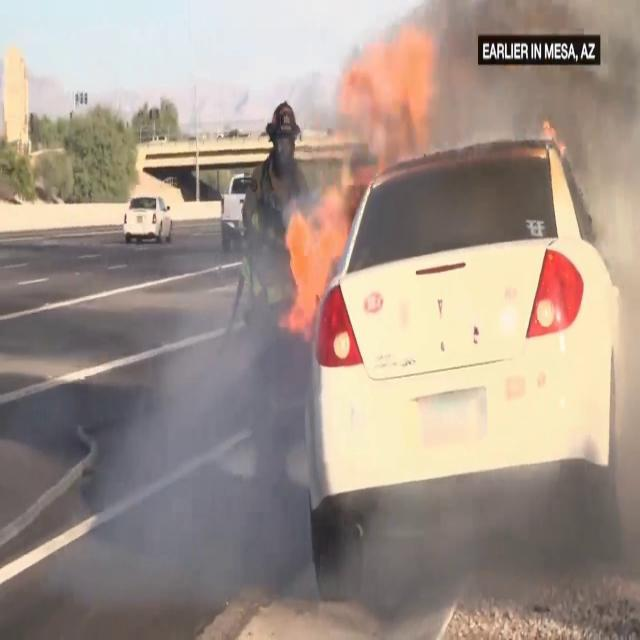Fire: (328, 8, 444, 180), (281, 174, 349, 332)
Smoke: (579, 2, 640, 578)
